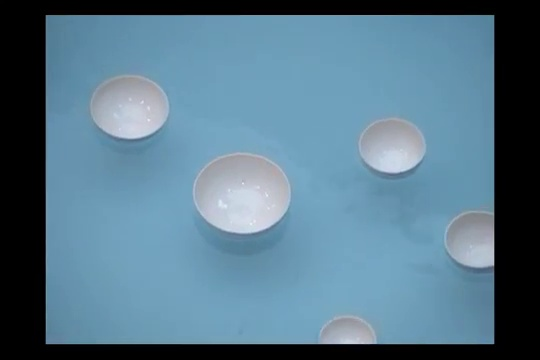bowl: (192, 152, 290, 241), (89, 74, 170, 145), (358, 116, 426, 179), (444, 210, 493, 272), (318, 315, 376, 343)
